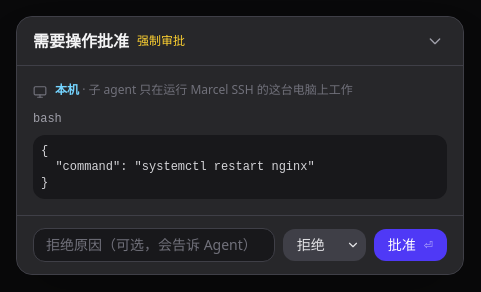
Test: 拒绝并停止任务 › 菜单开着时按 Esc 只关菜单，不收起整个弹窗
Click the button named "更多拒绝方式" at (352, 244), box [339, 228, 366, 260]
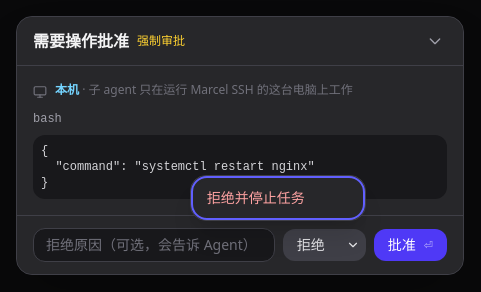
Press Escape in the menu item "拒绝并停止任务", box [195, 180, 361, 216]
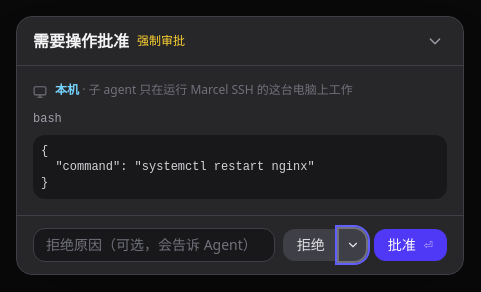
Check: the menu is gone
